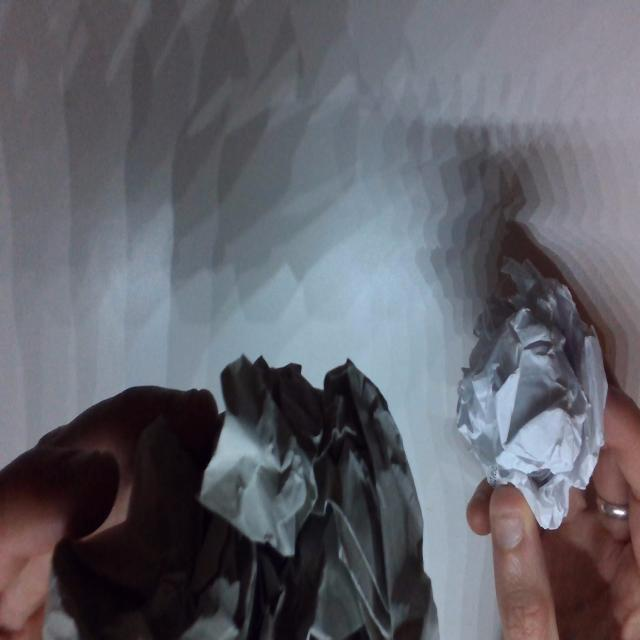Paper: (200, 360, 445, 640), (459, 281, 608, 516)
